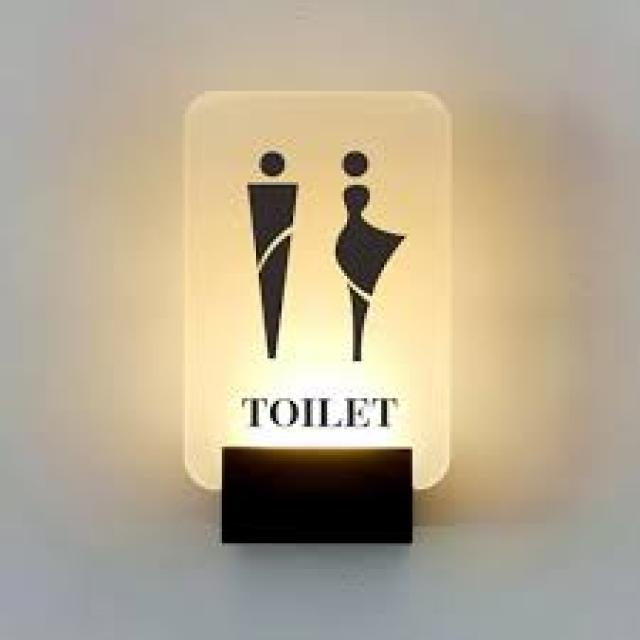toilet_icon: (232, 132, 416, 376)
